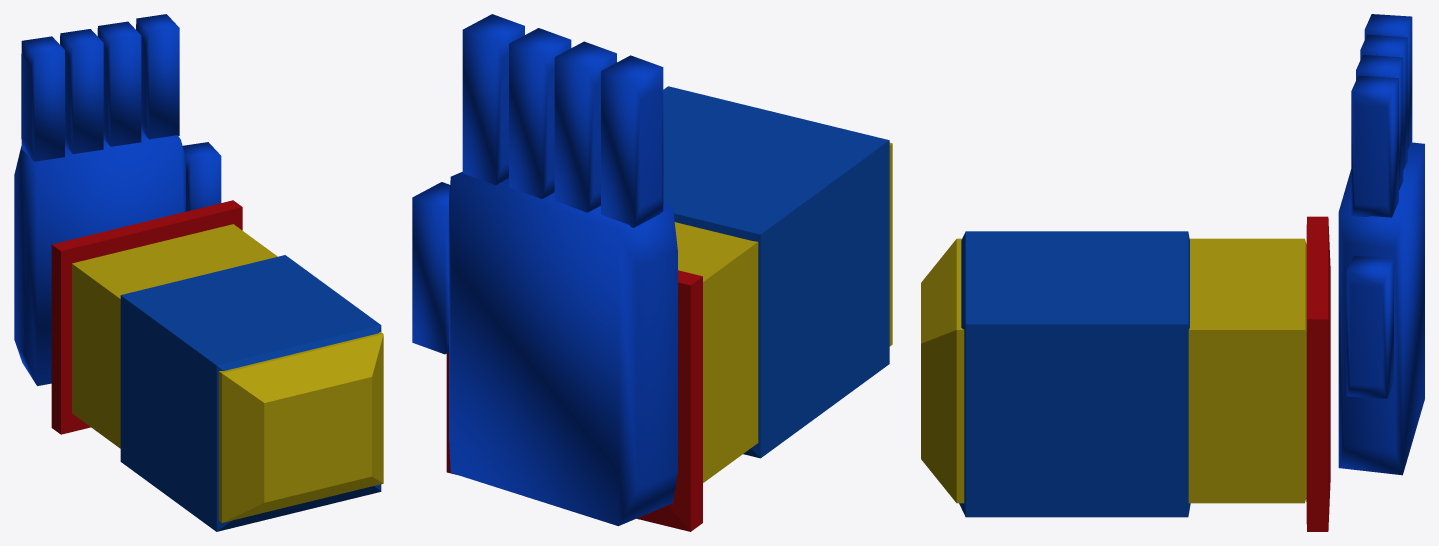
Rendered from grabpackv1.dae.
3 renders of one model, left to right at view 1: azimuth 30°, elevation 25°; view 2: azimuth 150°, elevation 25°; view 3: azimuth 270°, elevation 25°, orthographic. The views are drawn at different scales.
Visible parts, largest first — view 1: grabpacktool, bluehand; view 2: bluehand, grabpacktool; view 3: grabpacktool, bluehand.
Part boxes in pixels (x1=…): grabpacktool: x1=51, y1=200, x2=383, y2=531; bluehand: x1=14, y1=14, x2=221, y2=385; bluehand: x1=412, y1=14, x2=677, y2=526; grabpacktool: x1=446, y1=86, x2=892, y2=531; grabpacktool: x1=921, y1=216, x2=1330, y2=531; bluehand: x1=1338, y1=14, x2=1424, y2=475.
Bounding box in the file's own units: 3.32 × 6.55 × 5.97.
